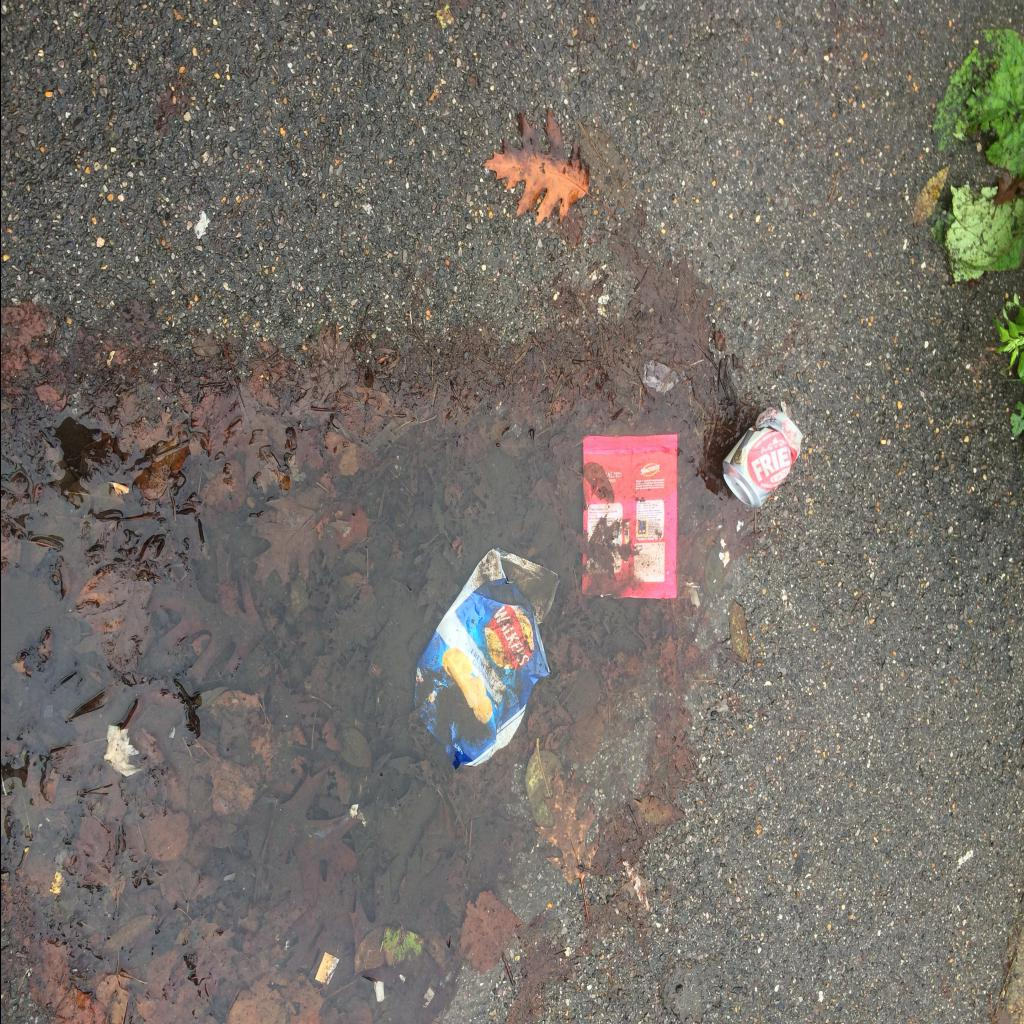Crisp packet: (414, 546, 560, 770), (580, 433, 678, 599)
Drink can: (722, 406, 804, 508)
